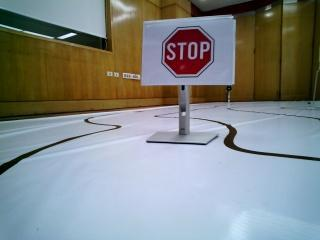stop: (147, 22, 228, 77)
